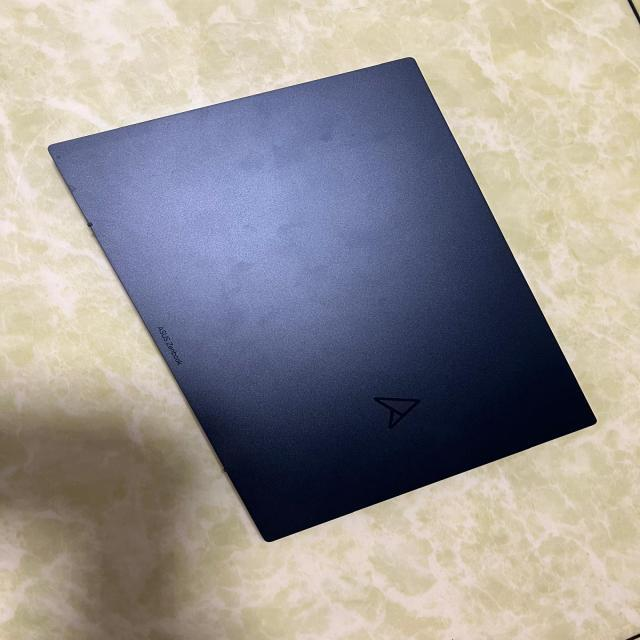laptop: (46, 55, 597, 542)
